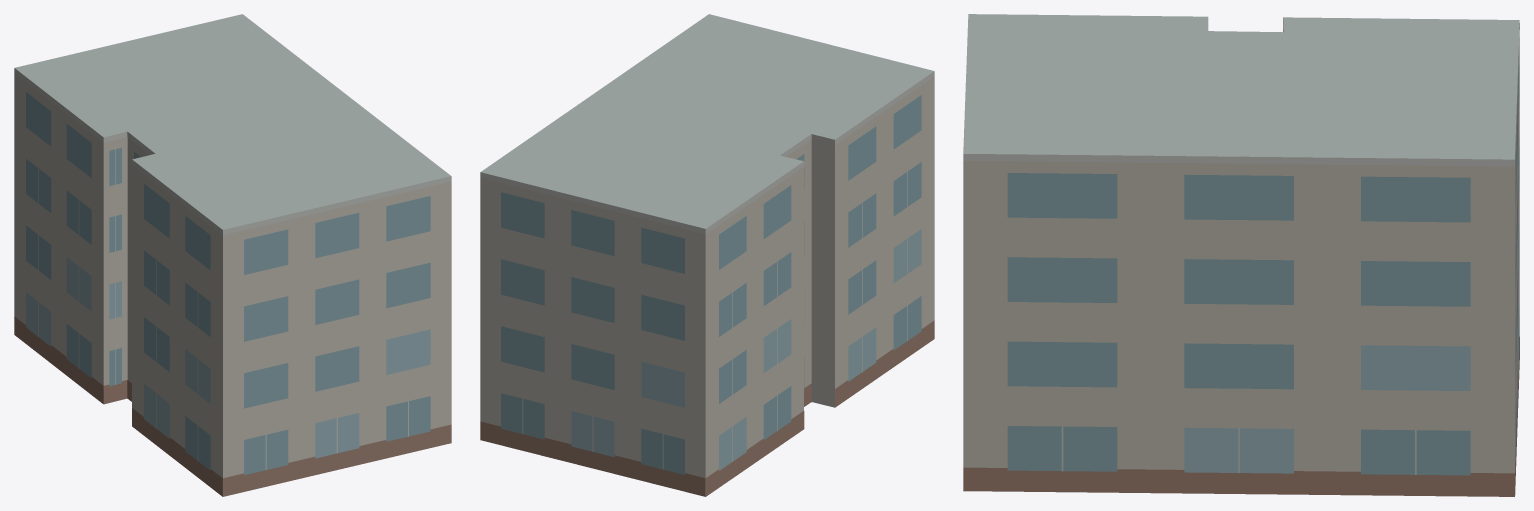
File: survey-upis-33029782.glb
3 renders of one model, left to right at view 1: azimuth 30°, elevation 25°; view 2: azimuth 150°, elevation 25°; view 3: azimuth 270°, elevation 25°, orthographic. The views are drawn at different scales.
Visible parts, largest first — view 1: survey-upis-33029782.tmp; view 2: survey-upis-33029782.tmp; view 3: survey-upis-33029782.tmp.
Boxes of the visible parts, x1,y1,x2,y2 form: survey-upis-33029782.tmp: [14, 14, 451, 496]; survey-upis-33029782.tmp: [480, 14, 934, 496]; survey-upis-33029782.tmp: [963, 14, 1519, 496].
Bounding box in the file's own units: 11.12 × 12 × 17.96.
